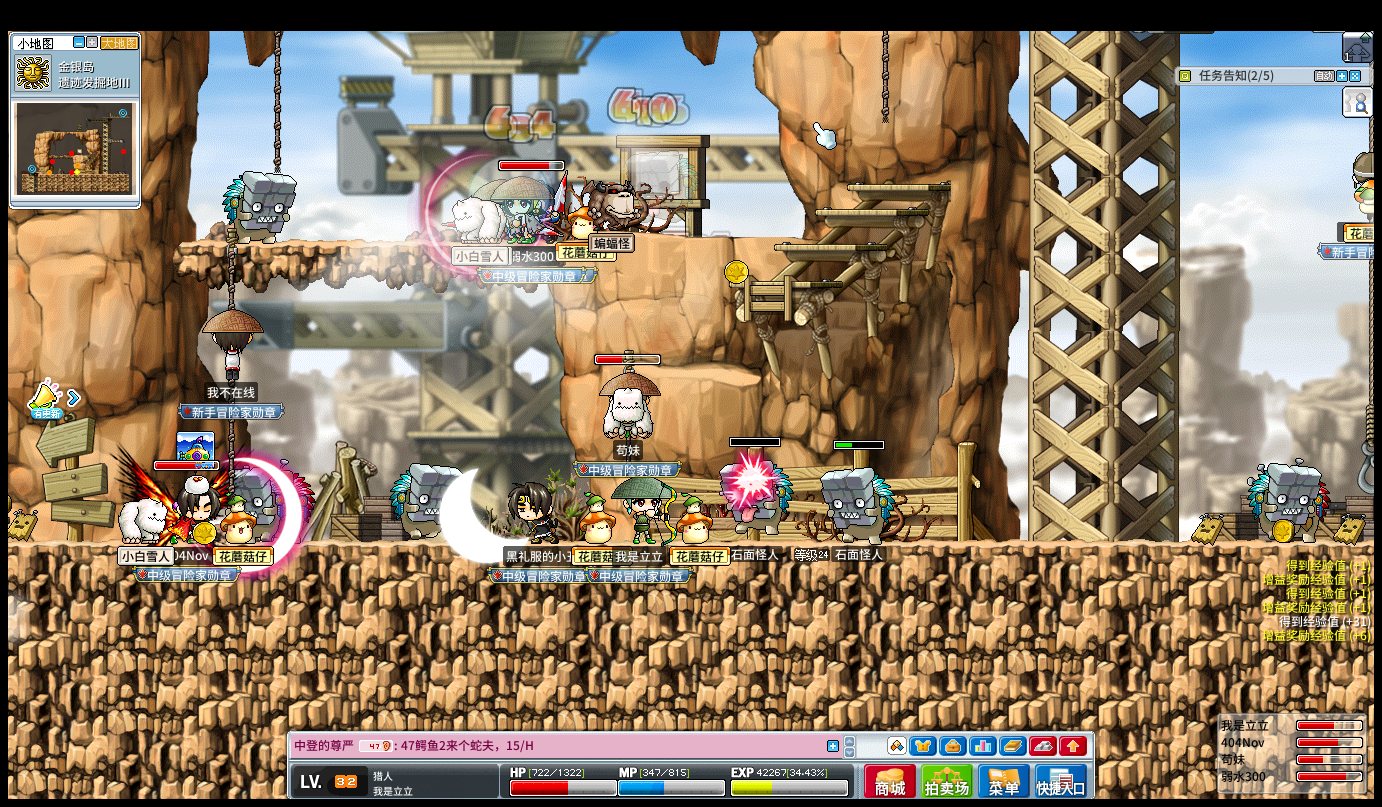floor: (175, 237, 554, 249), (653, 364, 761, 384), (667, 232, 807, 240), (721, 278, 839, 287), (773, 243, 886, 251), (812, 206, 925, 214), (845, 184, 948, 191)
monster: (1247, 463, 1326, 542), (720, 457, 793, 539), (221, 169, 297, 246), (821, 466, 895, 542), (388, 463, 453, 542), (630, 151, 691, 198)
rope: (271, 31, 285, 173), (1370, 261, 1380, 423), (224, 232, 237, 310), (879, 28, 888, 120)
